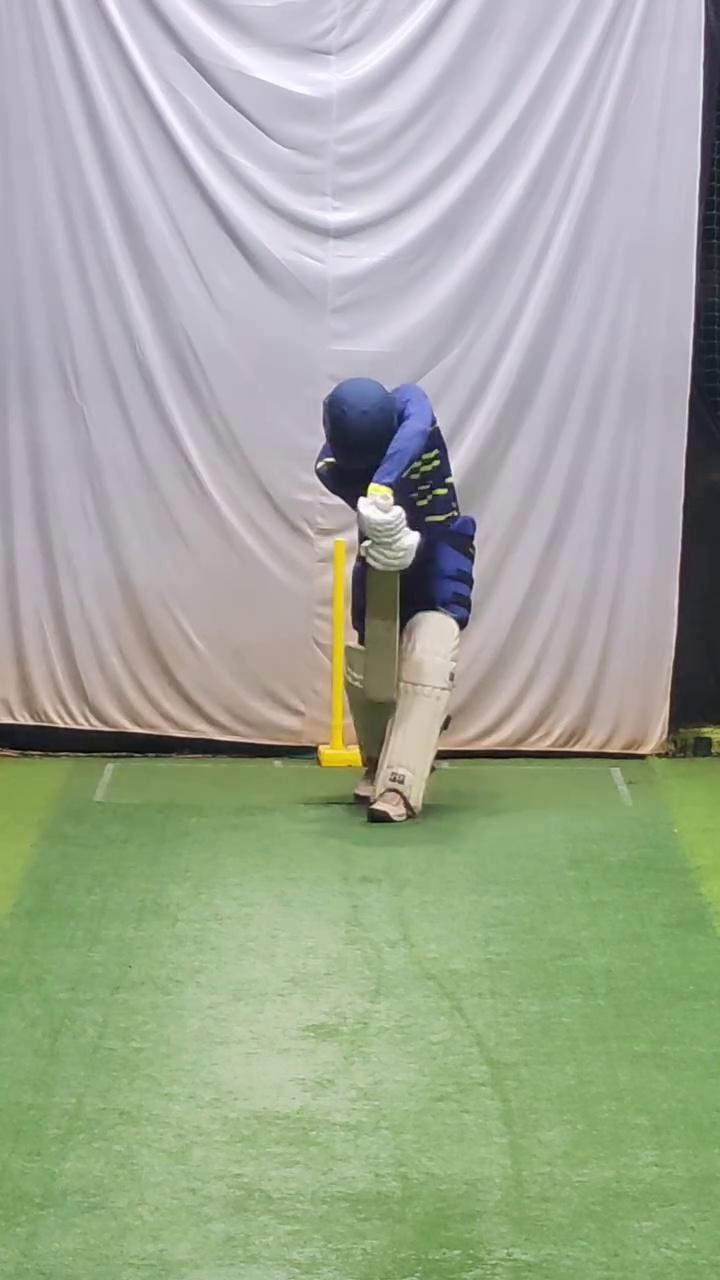bat: (362, 566, 400, 704)
